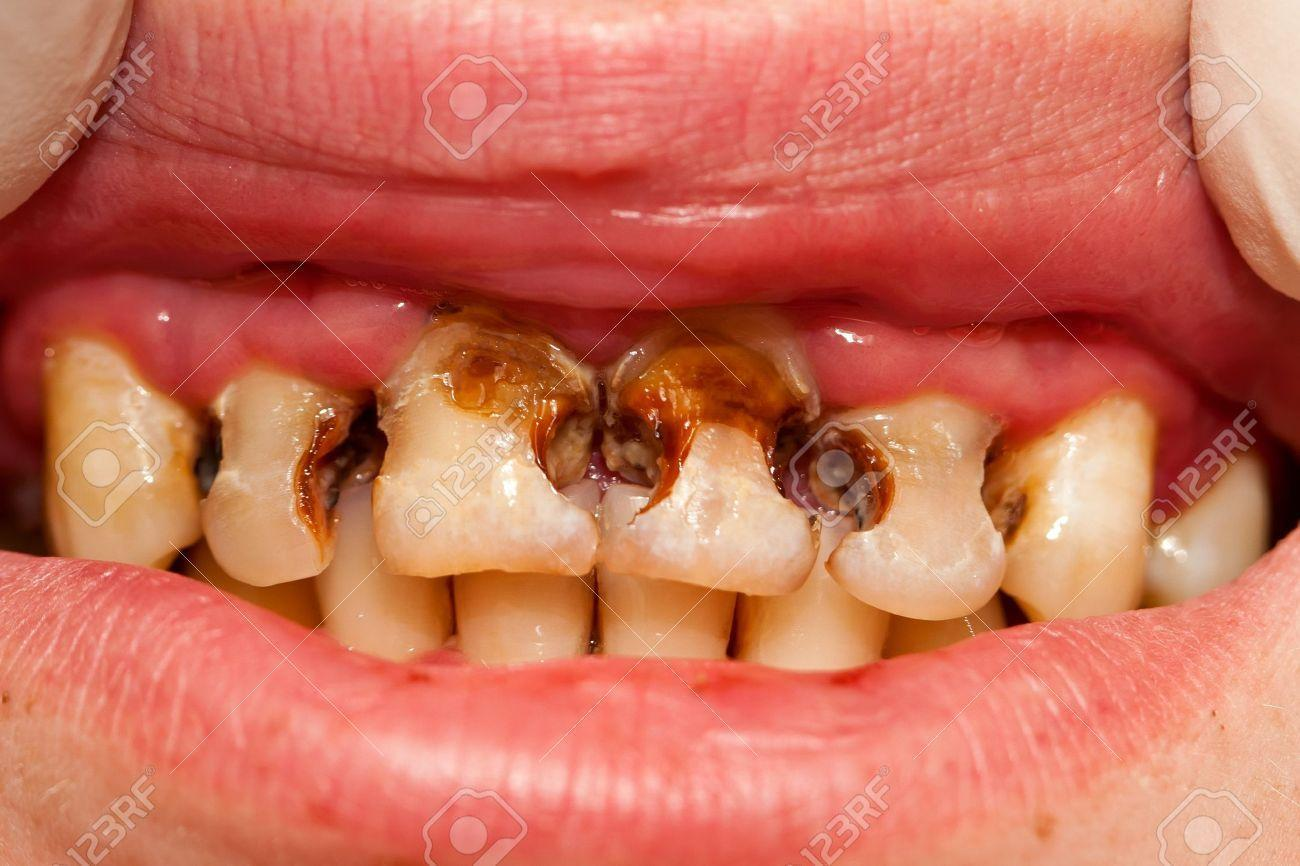cavity: (375, 301, 602, 578), (605, 306, 818, 592), (819, 380, 1004, 621), (193, 330, 343, 603), (39, 327, 192, 583), (995, 393, 1147, 620), (602, 483, 743, 663), (762, 499, 887, 683), (338, 454, 446, 664), (1156, 426, 1264, 609), (916, 511, 1011, 667)
